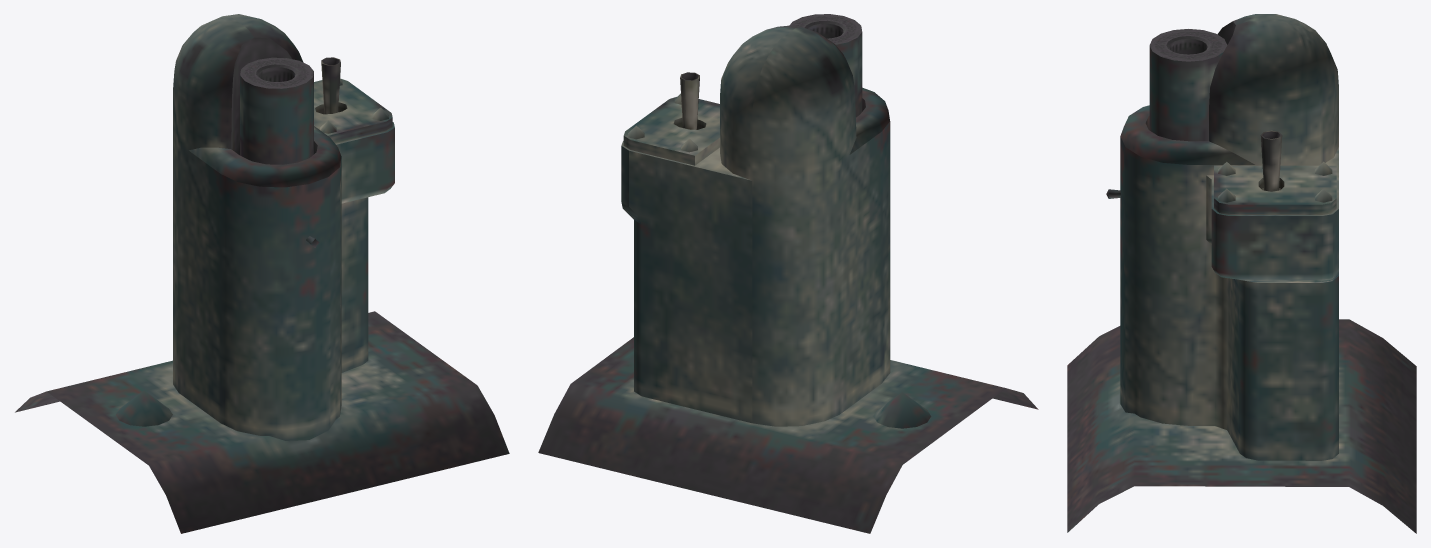
Rendered from Gun_01.glb.
The picture shows the model from 3 angles, left to right: view 1: azimuth 30°, elevation 25°; view 2: azimuth 150°, elevation 25°; view 3: azimuth 270°, elevation 25°; orthographic projection. The views are drawn at different scales.
Visible parts, largest first — view 1: set_0_group_0; view 2: set_0_group_0; view 3: set_0_group_0.
Boxes of the visible parts, x1,y1,x2,y2 form: set_0_group_0: (15, 14, 509, 533); set_0_group_0: (538, 14, 1038, 533); set_0_group_0: (1067, 14, 1416, 533).
Bounding box in the file's own units: 0.379 × 0.4459 × 0.3331.
1 material, 1 textured.
